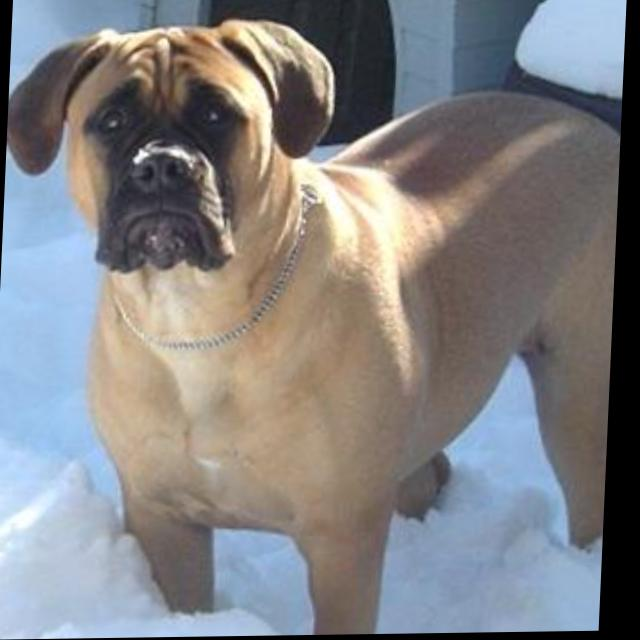bullmastiff: (1, 14, 627, 640)
